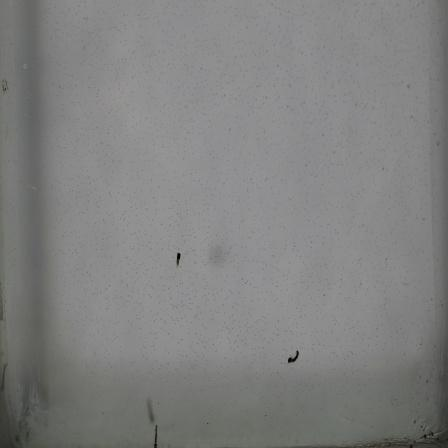Jentik-Nyamuk: (283, 346, 301, 367), (149, 422, 162, 448), (172, 250, 183, 268)
